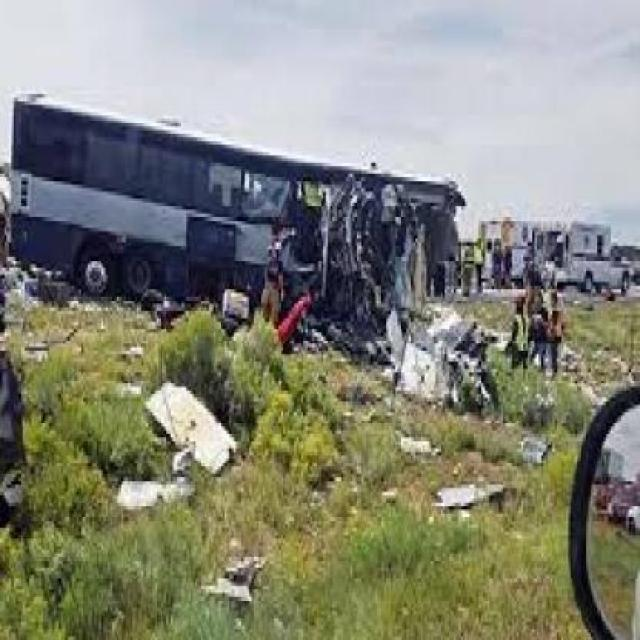accident: (11, 60, 514, 425)
